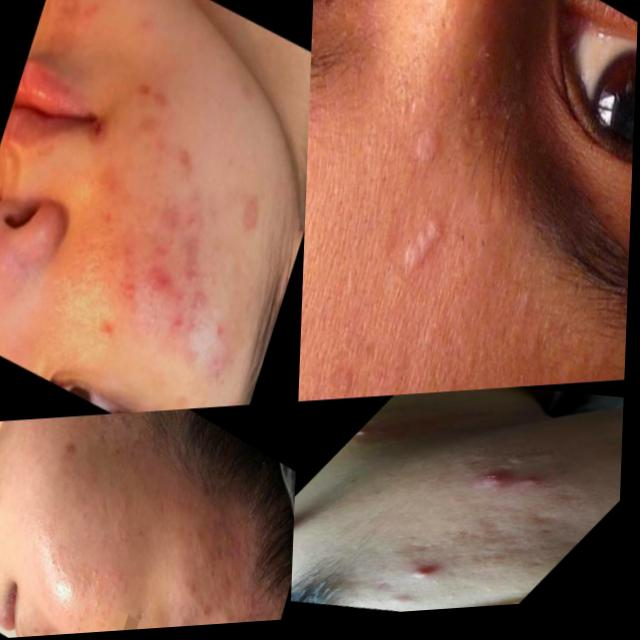8: (138, 253, 186, 318), (157, 305, 199, 355), (207, 317, 238, 360), (198, 280, 223, 321), (0, 524, 3, 573)
9: (400, 557, 466, 593)
blackheads: (51, 0, 107, 49), (132, 73, 182, 122), (173, 138, 215, 193), (237, 191, 275, 241), (88, 0, 124, 10)
dark spot: (473, 224, 508, 283), (453, 213, 482, 265), (54, 557, 81, 592), (54, 537, 73, 570)
pustules: (458, 471, 537, 509), (505, 476, 564, 503)
